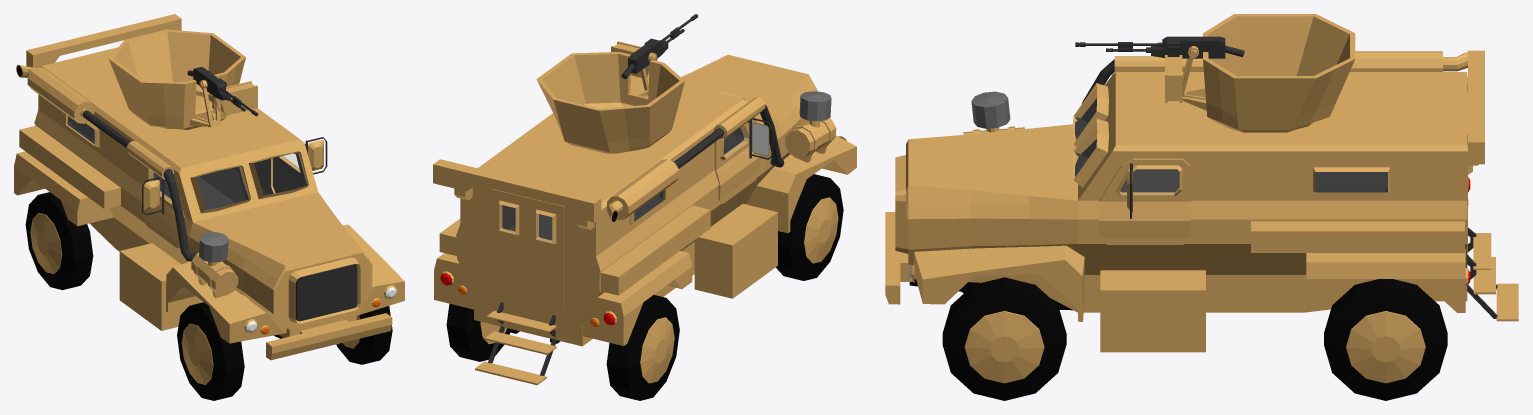
3 renders of one model, left to right at view 1: azimuth 30°, elevation 25°; view 2: azimuth 150°, elevation 25°; view 3: azimuth 270°, elevation 25°, orthographic. The views are drawn at different scales.
Visible parts, largest first — view 1: Plane.021, Cube.012, Cylinder.019, Cylinder.016, Cylinder.017, Plane.027, Plane.022, Cube.013, Plane.026, Cylinder.015; view 2: Plane.021, Cube.012, Cylinder.019, Cylinder.016, Cylinder.017, Plane.024, Plane.025, Plane.022, Cylinder.018, Cube.013, Plane.027; view 3: Plane.021, Cube.012, Cylinder.015, Cylinder.018, Plane.026, Cylinder.019, Plane.027, Cube.013.
Part boxes in pixels (box(x1,y1,x2,y2)): Plane.021: box(14, 47, 404, 360); Cube.012: box(109, 29, 245, 129); Cylinder.019: box(16, 14, 238, 297); Cylinder.016: box(25, 192, 93, 289); Cylinder.017: box(177, 302, 244, 400); Plane.027: box(67, 116, 307, 209); Plane.022: box(142, 167, 184, 247); Cube.013: box(187, 67, 258, 116); Plane.026: box(273, 137, 327, 193); Cylinder.015: box(336, 306, 392, 364); Plane.021: box(434, 54, 856, 385); Cube.012: box(536, 49, 684, 153); Cylinder.019: box(433, 91, 836, 229); Cylinder.016: box(606, 295, 679, 400); Cylinder.017: box(776, 174, 843, 280); Plane.024: box(491, 188, 527, 300); Plane.025: box(528, 197, 564, 309); Plane.022: box(714, 118, 772, 203); Cylinder.018: box(446, 303, 510, 361); Cube.013: box(611, 14, 698, 78); Plane.027: box(502, 127, 744, 240); Plane.021: box(885, 72, 1518, 352); Cube.012: box(1182, 14, 1355, 132); Cylinder.015: box(942, 277, 1066, 400); Cylinder.018: box(1324, 279, 1447, 400); Plane.026: box(1099, 158, 1190, 244); Cylinder.019: box(963, 50, 1484, 165); Plane.027: box(1075, 84, 1387, 192); Cube.013: box(1075, 36, 1244, 102).
Bounding box in the file's own units: 253 × 323 × 597.
